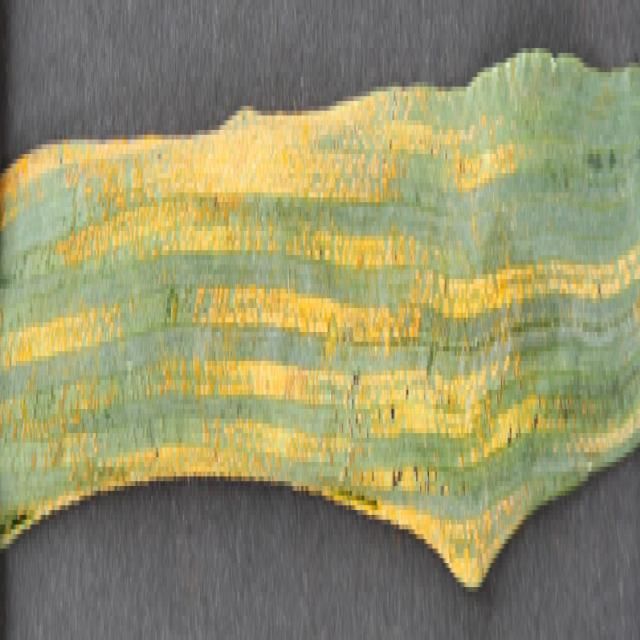leaf rust: (1, 111, 640, 553)
